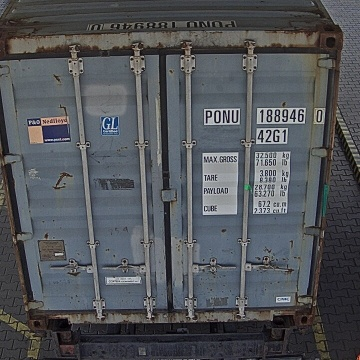serial_id: (204, 108, 324, 123)
